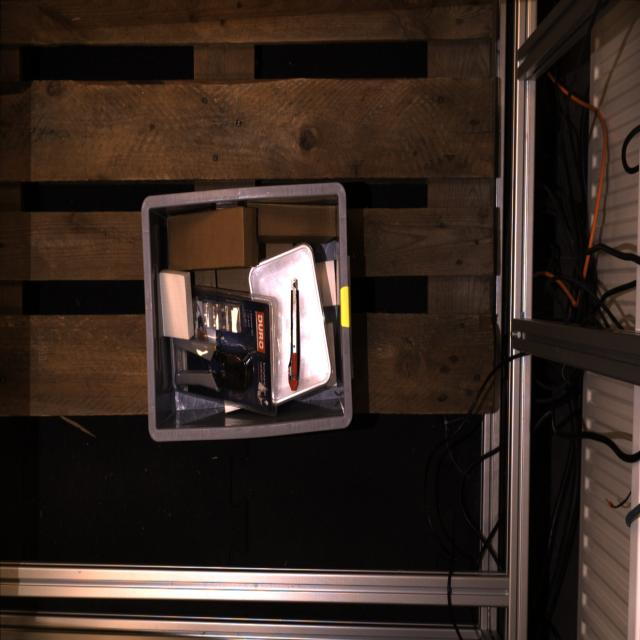CardboardBox: (159, 208, 257, 270), (258, 204, 336, 244), (157, 269, 194, 339), (316, 260, 336, 306), (217, 268, 250, 293), (326, 323, 337, 387), (266, 243, 293, 259), (195, 270, 216, 290)
ItemPackaging: (177, 286, 271, 413)
Pen: (287, 277, 303, 391)
PlasticContainer: (247, 246, 332, 402)
